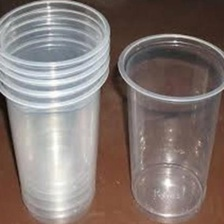glass: (0, 0, 113, 224), (112, 26, 224, 224)
